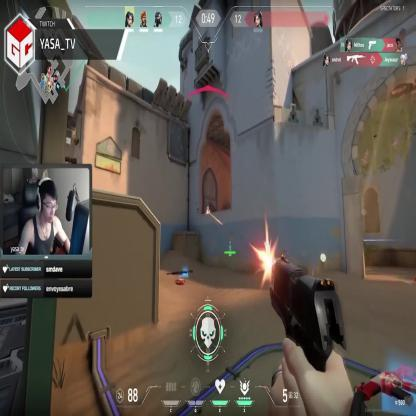enemy: (206, 207, 211, 228)
enemy_head: (207, 206, 210, 212)
